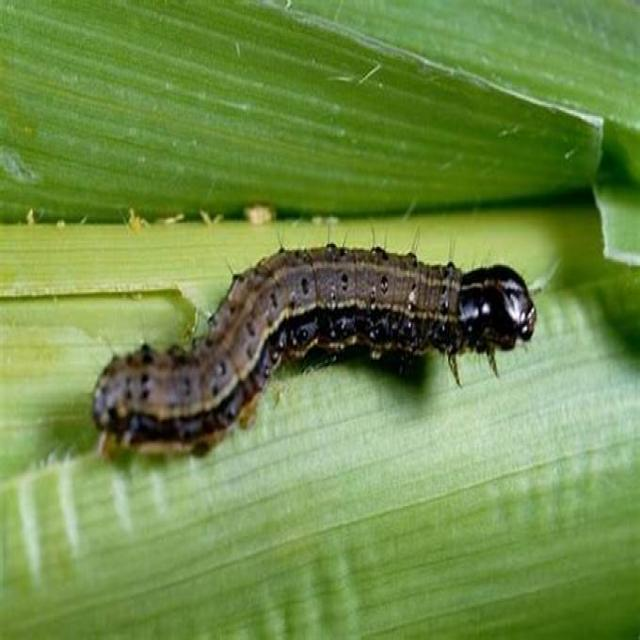pest-armyworm: (88, 233, 541, 473)
